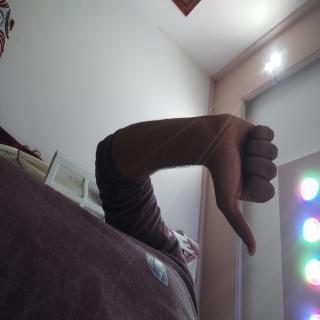DAD: (77, 49, 197, 157)
